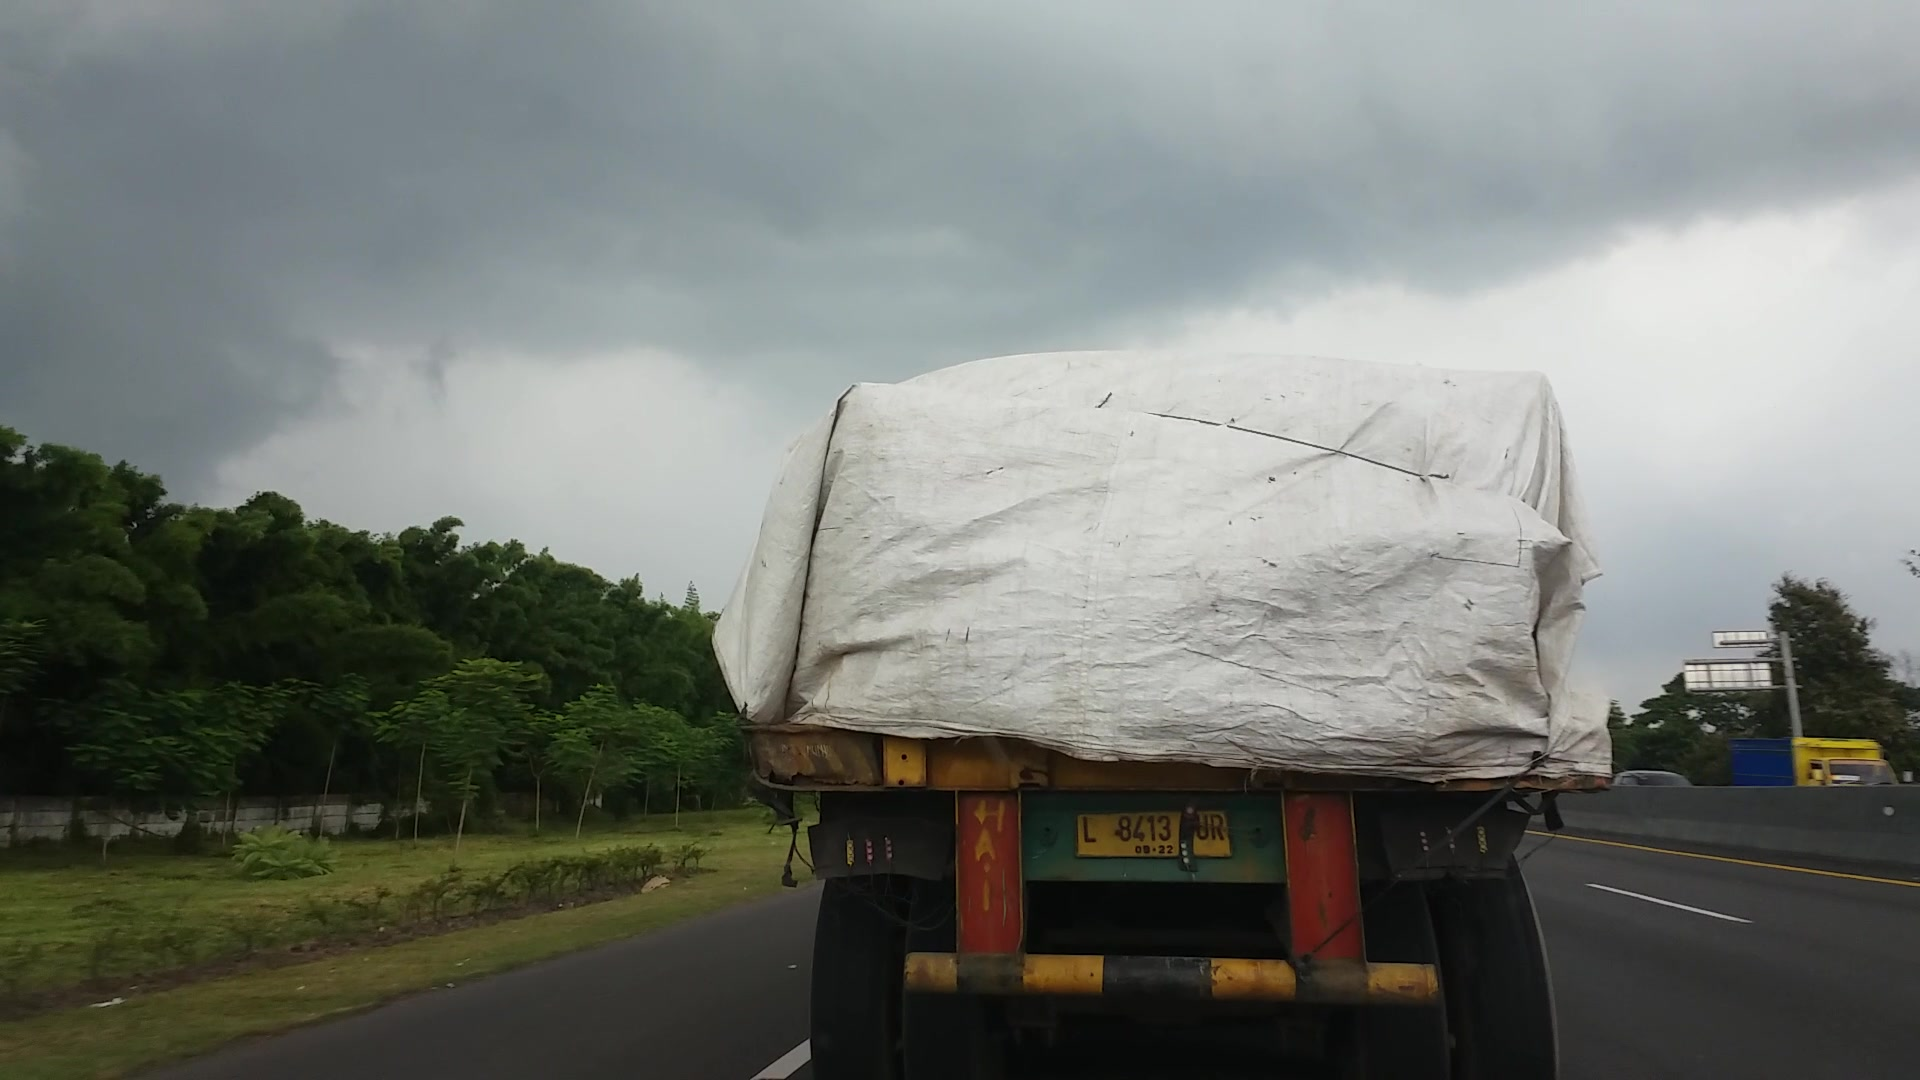plate_positive: (1075, 811, 1232, 858)
